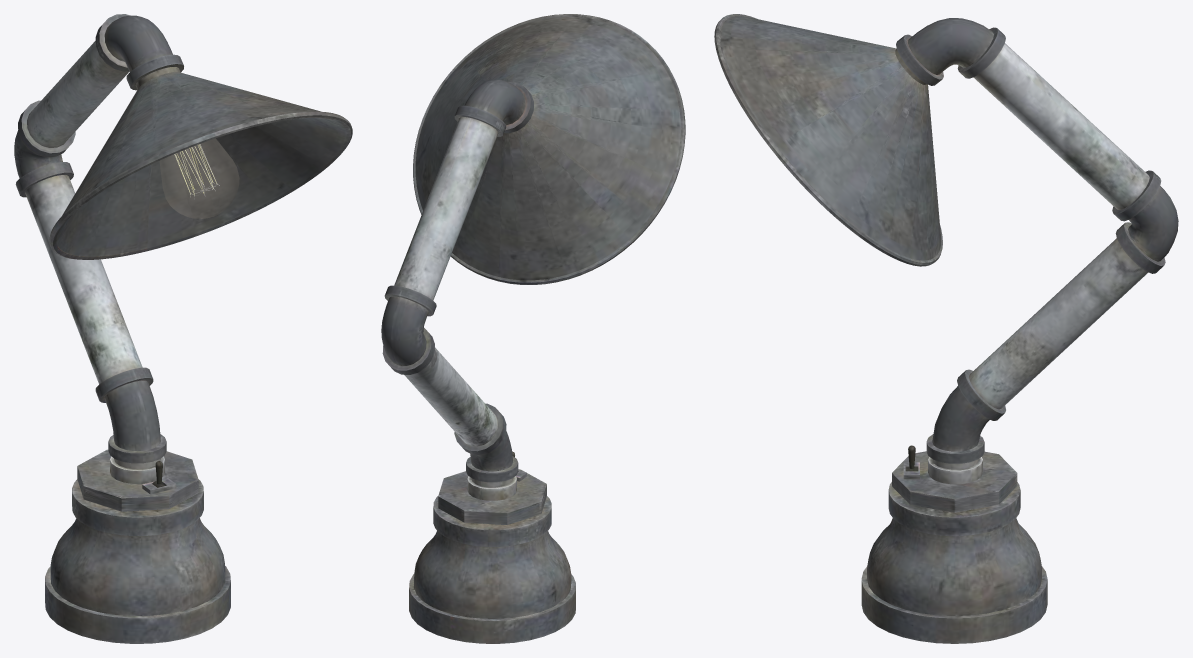
Rendered from floor_lamp.glb.
3 renders of one model, left to right at view 1: azimuth 30°, elevation 25°; view 2: azimuth 150°, elevation 25°; view 3: azimuth 270°, elevation 25°, orthographic. The views are drawn at different scales.
Parts seen in each view (by area): view 1: industrial_pipe_lamp, industrial_pipe_lamp_bulb; view 2: industrial_pipe_lamp; view 3: industrial_pipe_lamp.
Part boxes in pixels (x1=…): industrial_pipe_lamp: x1=14, y1=14, x2=352, y2=643; industrial_pipe_lamp_bulb: x1=160, y1=138, x2=239, y2=218; industrial_pipe_lamp: x1=381, y1=14, x2=685, y2=643; industrial_pipe_lamp: x1=714, y1=14, x2=1178, y2=643.
Size of the model in its own units: 0.183 by 0.3641 by 0.2621.
2 materials, 2 textured.
